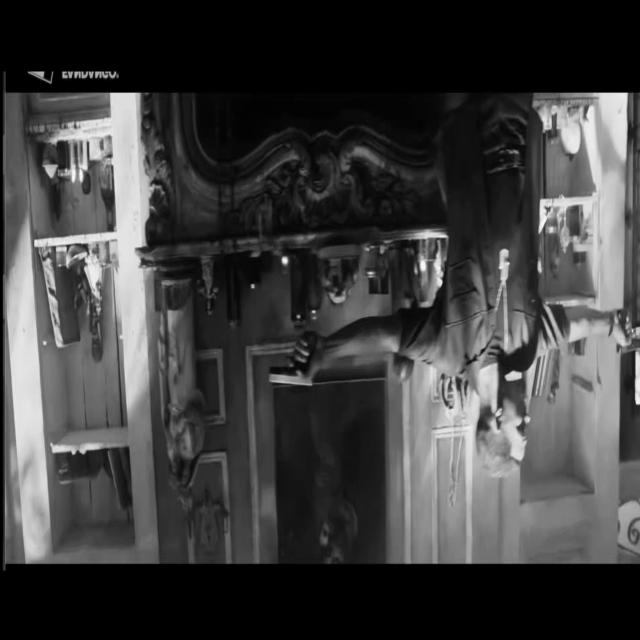weapons: (260, 321, 324, 401)
